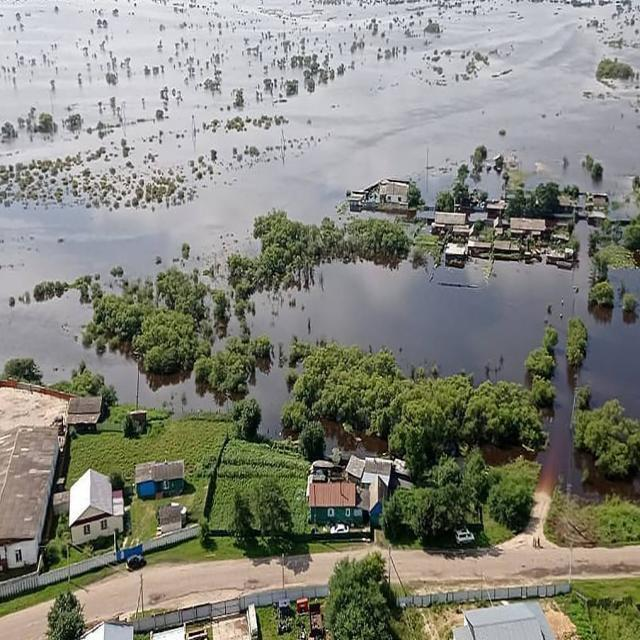flood: (0, 0, 640, 401), (248, 222, 640, 434), (139, 374, 218, 411), (615, 271, 640, 298)
house: (0, 421, 69, 566), (438, 600, 566, 640), (68, 467, 122, 545), (132, 458, 190, 503), (306, 481, 358, 526), (79, 620, 138, 640), (434, 209, 472, 239), (379, 178, 410, 209)
